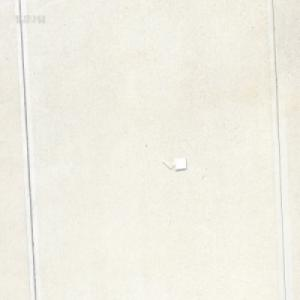LuggageTag: (161, 154, 187, 171)
